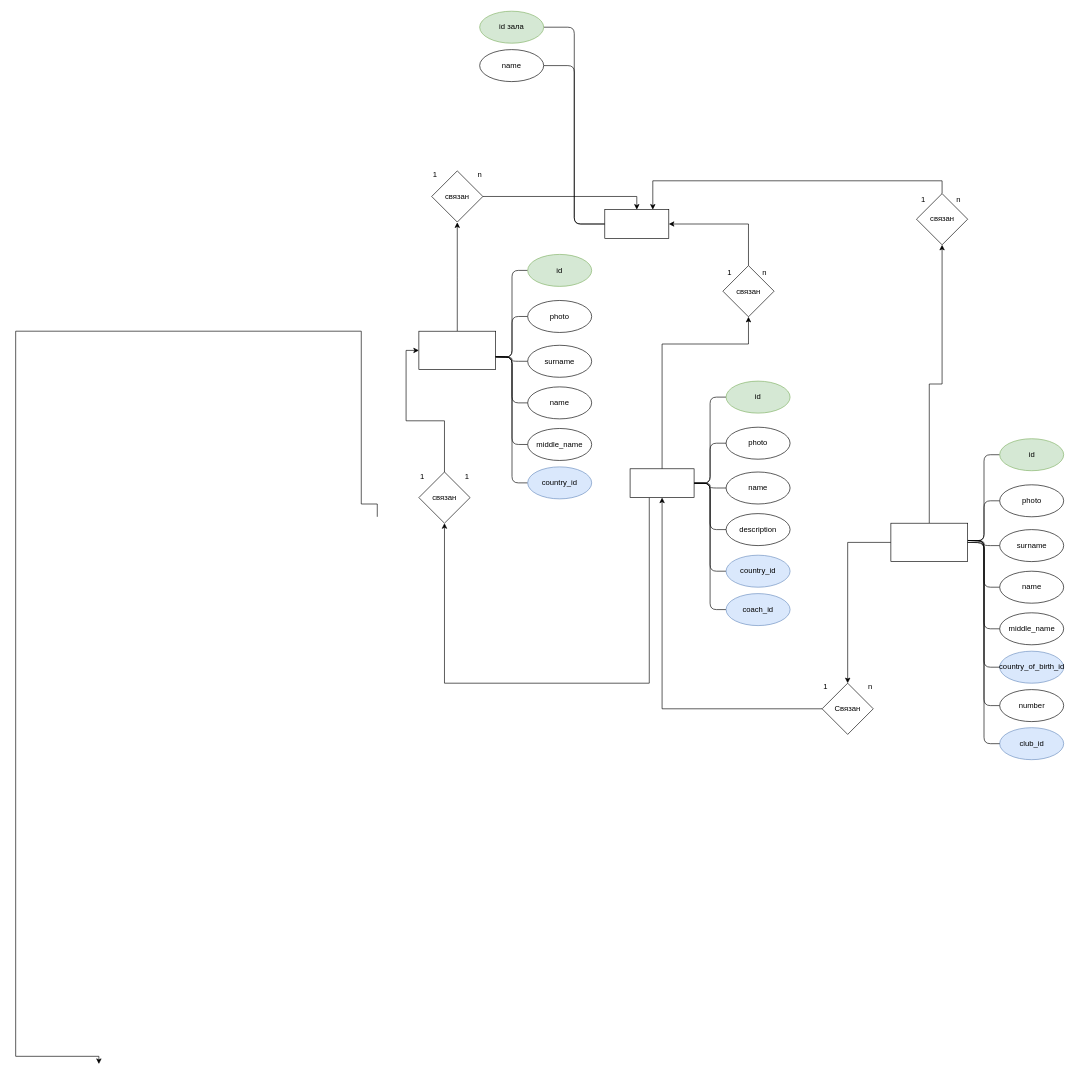
Image size: 1075x1080. Some labels were removed from this diagram. Each missing label, with the centre of its shape:
Игрок: point 929,542
Клуб: point 661,483
Страна: point 636,223
Тренер: point 457,350
